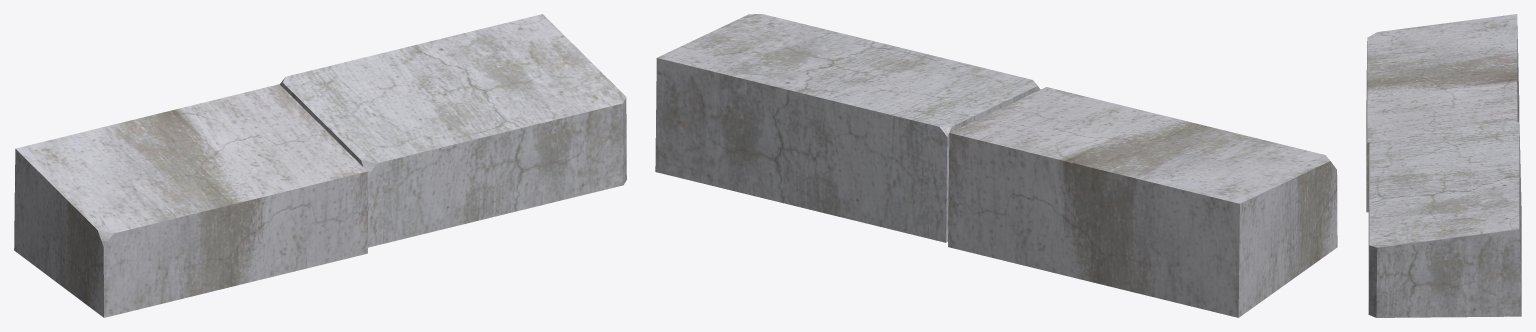
The model's file is entgate_parts05b.fbx.
3 views of the same model, side by side, from view 1: azimuth 30°, elevation 25°; view 2: azimuth 150°, elevation 25°; view 3: azimuth 270°, elevation 25° (orthographic). The views are drawn at different scales.
Visible parts, largest first — view 1: entgate_parts05b; view 2: entgate_parts05b; view 3: entgate_parts05b.
Part boxes in pixels (bbox=[...]): entgate_parts05b: bbox=[14, 14, 626, 317]; entgate_parts05b: bbox=[655, 14, 1337, 317]; entgate_parts05b: bbox=[1366, 14, 1521, 317].
Bounding box in the file's own units: 0.9668 × 0.1907 × 0.289.
